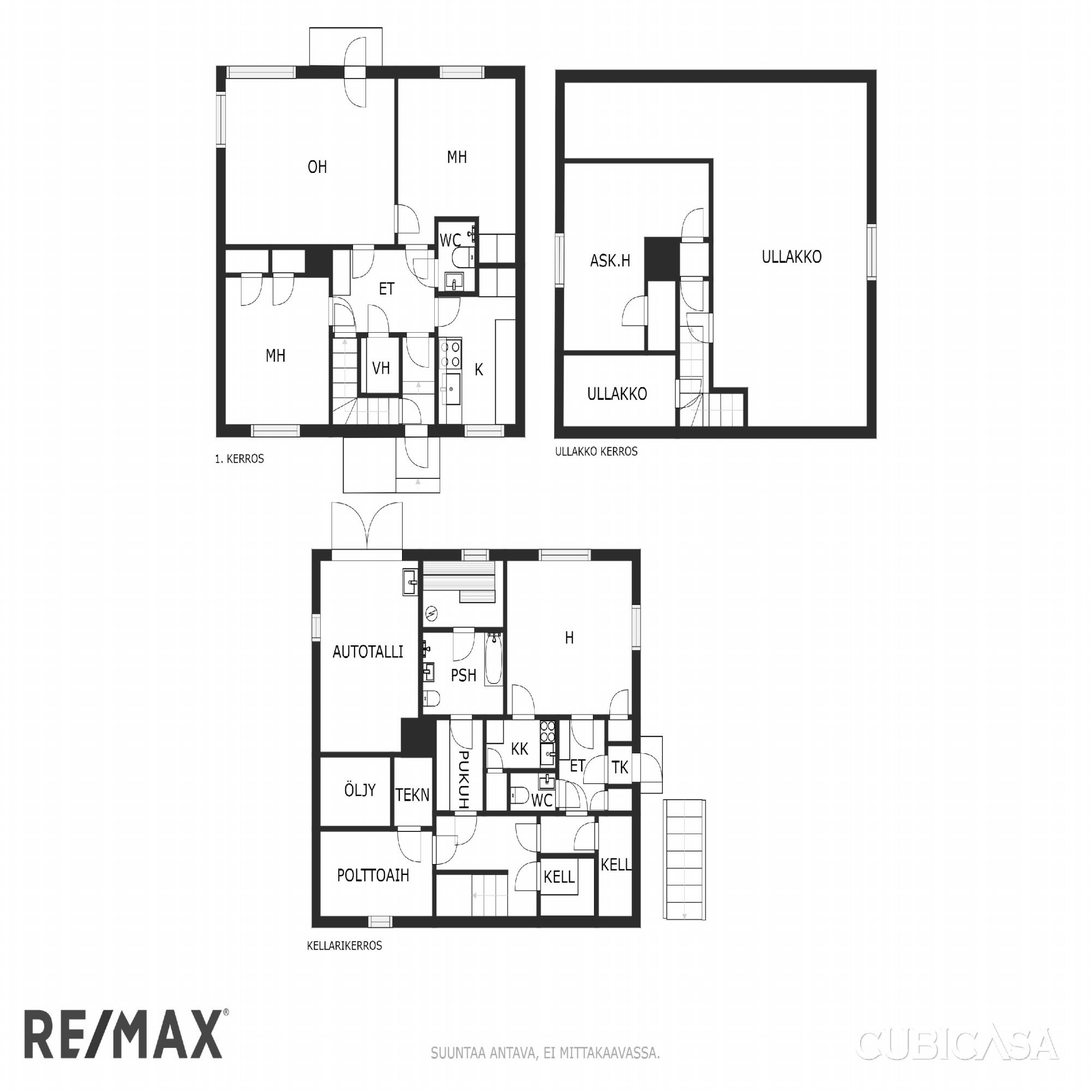wall: (216, 65, 525, 79), (311, 915, 641, 928), (554, 69, 877, 82), (554, 425, 877, 438), (216, 424, 525, 437), (311, 550, 321, 928), (515, 65, 525, 437), (216, 65, 226, 437), (867, 69, 877, 438), (311, 549, 641, 560), (632, 550, 641, 928), (554, 69, 563, 438), (644, 237, 675, 281), (216, 244, 438, 250), (401, 718, 434, 757), (709, 158, 714, 393), (417, 714, 641, 719), (432, 811, 641, 816), (328, 244, 333, 437), (432, 714, 436, 928), (305, 244, 330, 278), (418, 550, 423, 719), (675, 237, 679, 438), (554, 157, 713, 162), (434, 250, 438, 437), (394, 65, 398, 250), (216, 272, 333, 278), (503, 550, 507, 719), (311, 826, 436, 831), (311, 752, 436, 757), (554, 350, 679, 355), (536, 811, 541, 928), (328, 332, 438, 337), (418, 627, 507, 633), (644, 237, 648, 355), (594, 811, 598, 928), (604, 714, 608, 816), (483, 768, 559, 773), (432, 870, 508, 875), (475, 216, 479, 296), (390, 752, 394, 831), (399, 332, 402, 437), (536, 853, 598, 858), (556, 714, 559, 816), (483, 714, 486, 816), (475, 262, 525, 268), (434, 216, 478, 222), (743, 388, 748, 438), (675, 237, 714, 243), (357, 393, 402, 398), (434, 291, 479, 296), (357, 332, 360, 398), (709, 388, 748, 393), (675, 276, 714, 281), (604, 784, 641, 789), (604, 742, 641, 747), (507, 768, 510, 816), (434, 216, 438, 250), (269, 244, 272, 278)
